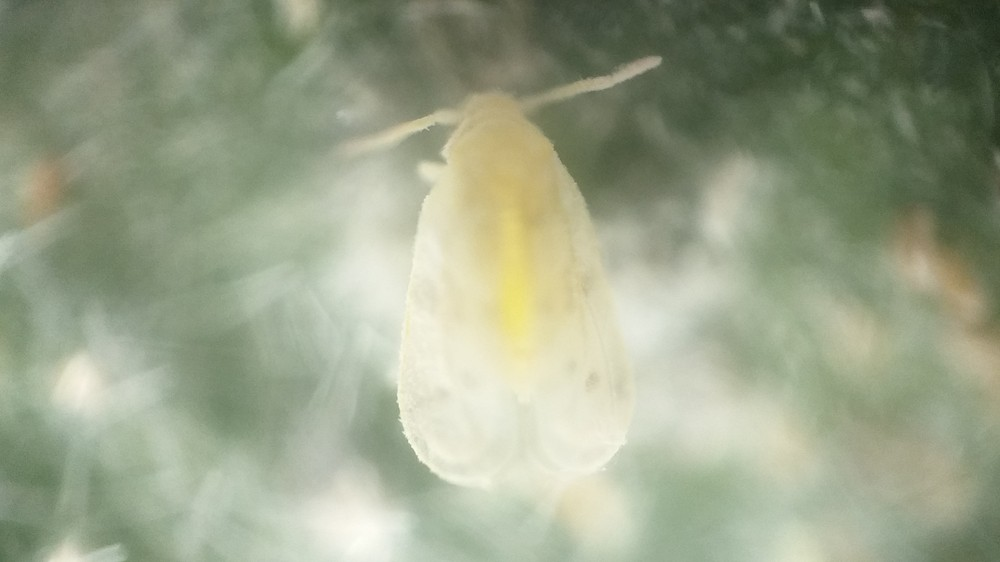Mosca Blanca: (324, 52, 700, 498)
